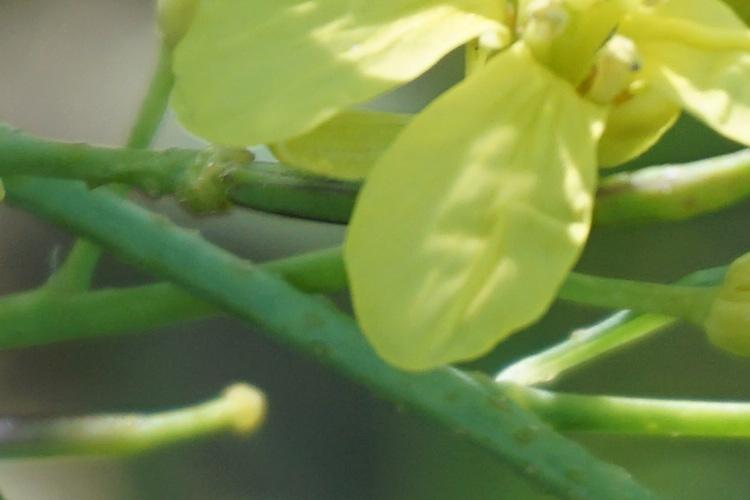pod: (3, 351, 278, 482)
yellow: (167, 2, 750, 360)
